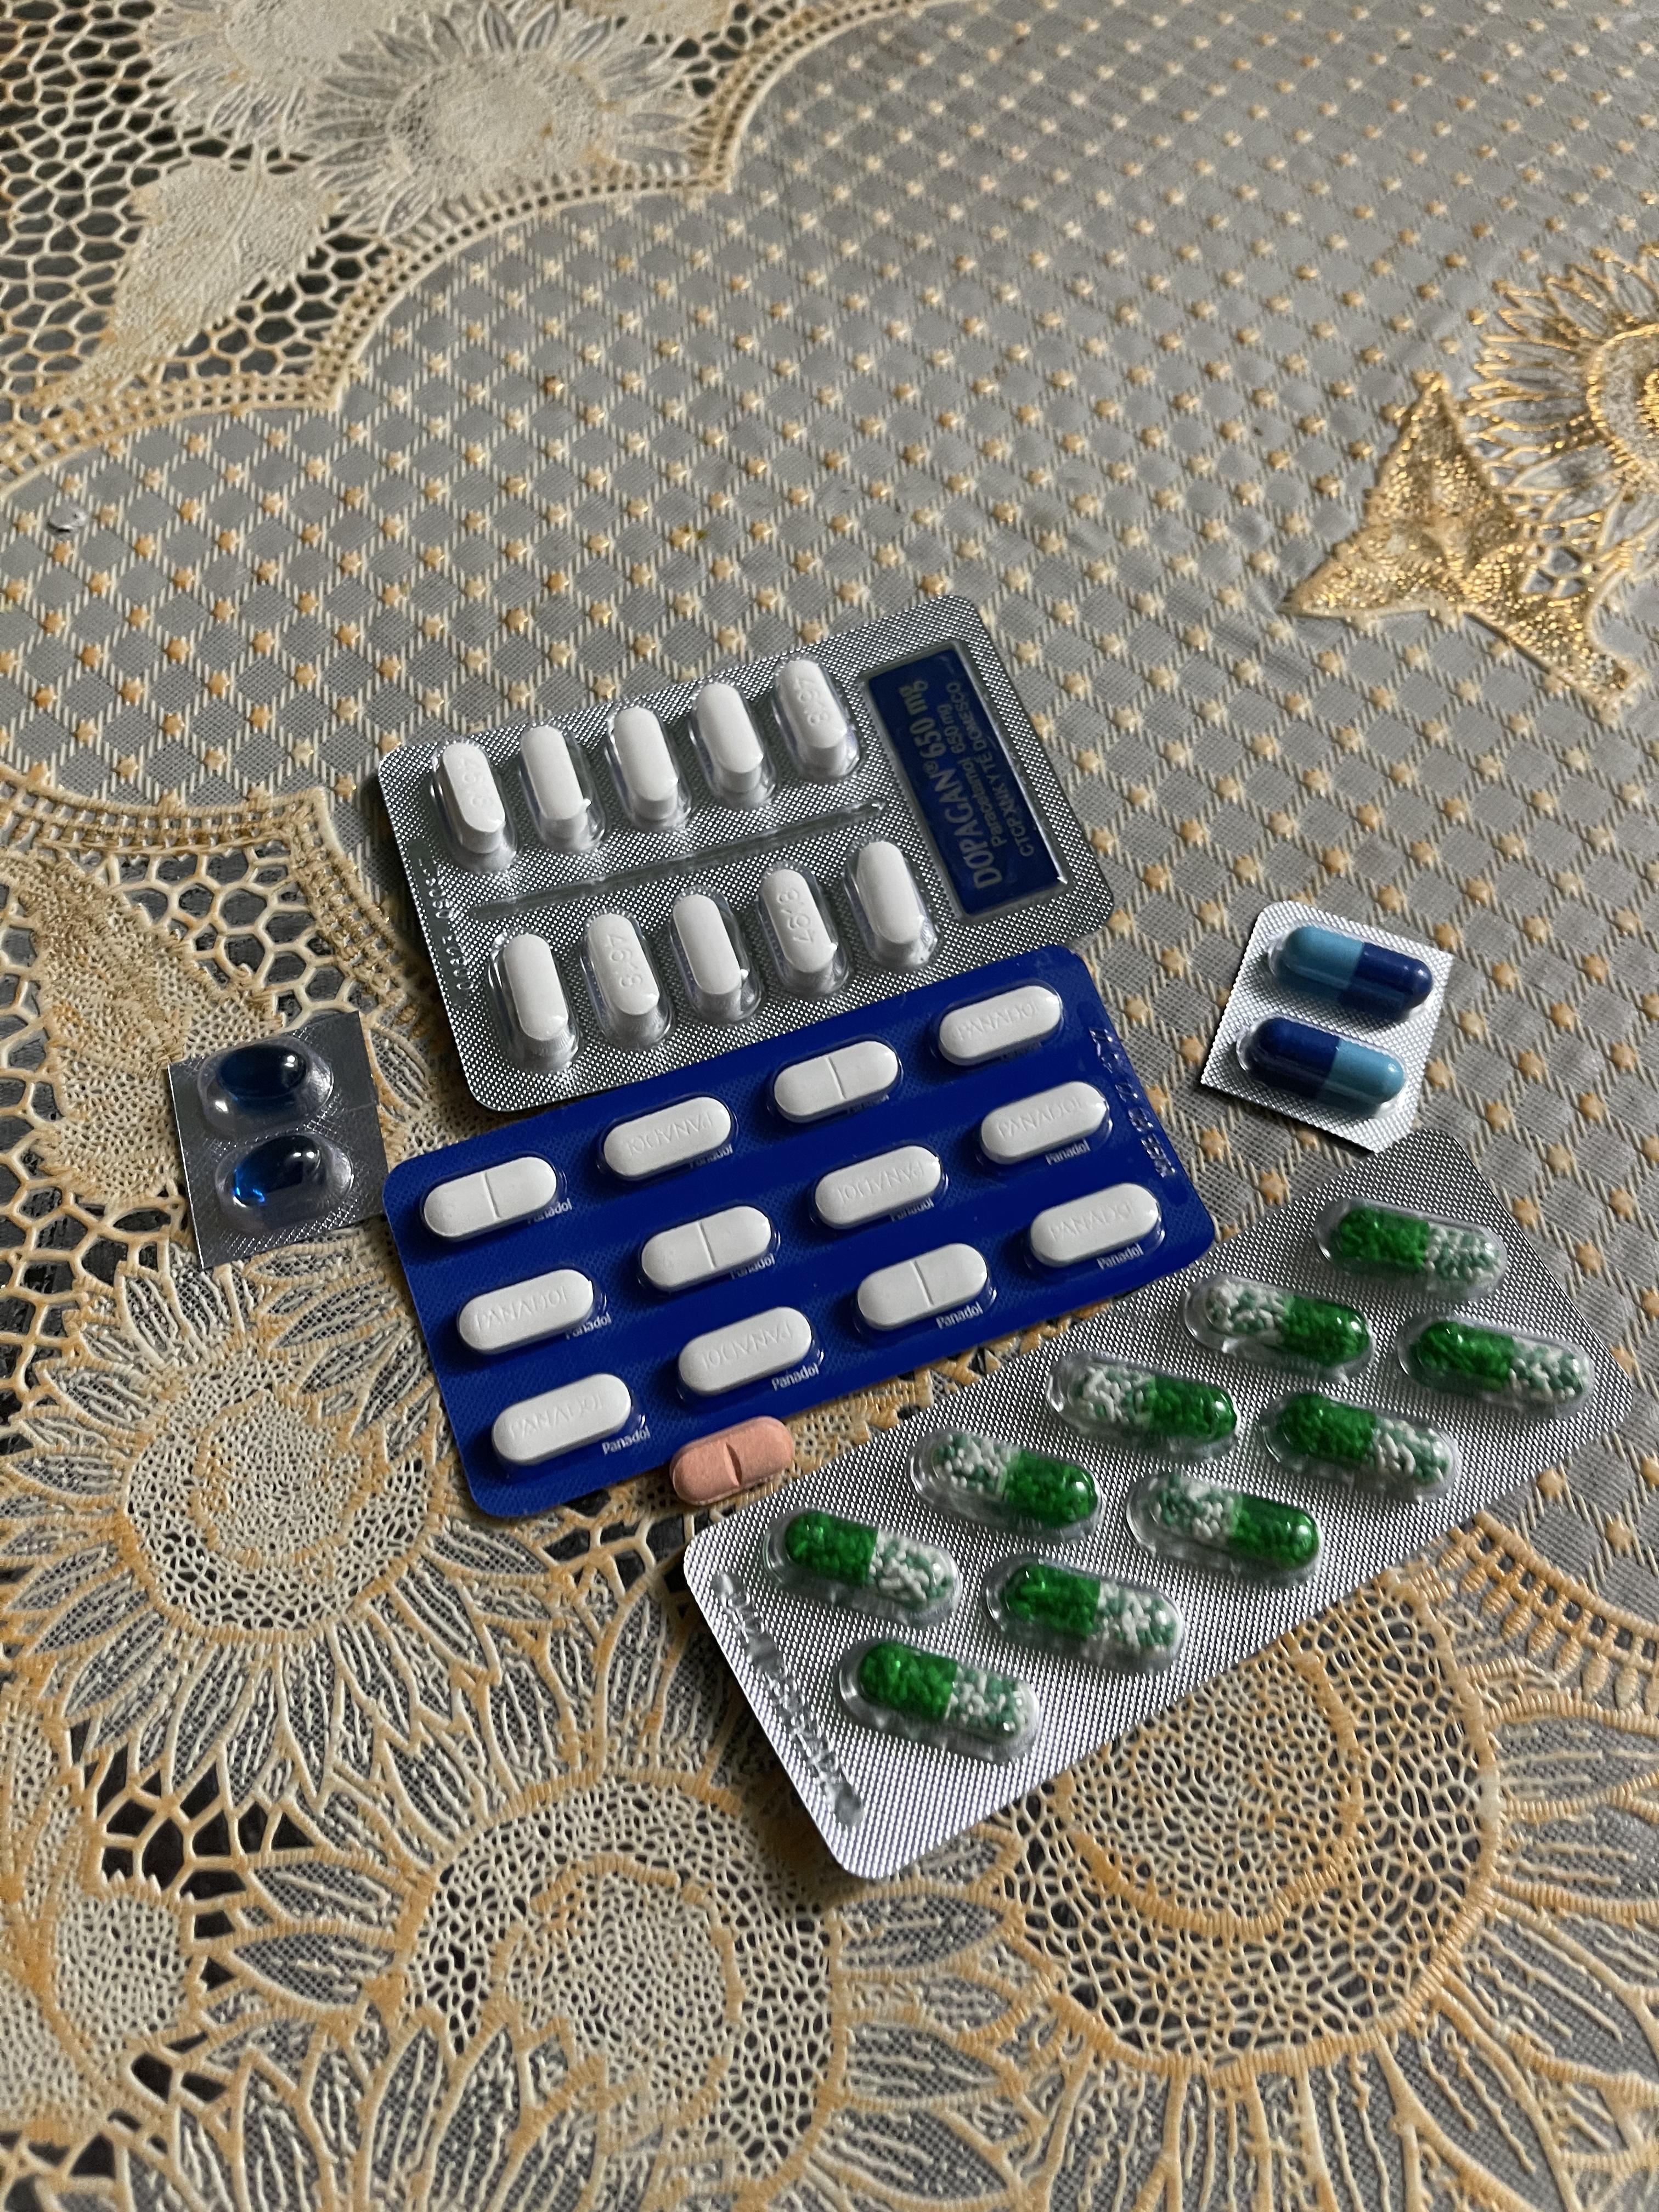Lincomyxin_500mg: (227, 1129, 343, 1219), (214, 1042, 319, 1111)
Loratadine_10mg: (671, 1416, 800, 1501)
Paracetamol_350mg: (491, 1374, 634, 1468), (458, 1266, 598, 1359), (680, 1306, 817, 1399), (1026, 1181, 1164, 1270), (857, 1244, 990, 1336), (812, 1143, 946, 1231), (974, 1080, 1110, 1167), (645, 1204, 777, 1292), (423, 1157, 558, 1242), (603, 1096, 732, 1183), (936, 982, 1066, 1068), (772, 1038, 896, 1123)
Paracetamol_500mg: (584, 911, 669, 1042), (755, 862, 842, 989), (850, 840, 932, 963), (692, 681, 770, 803), (669, 890, 749, 1008), (608, 704, 685, 827), (777, 653, 856, 772), (518, 725, 592, 843), (437, 740, 511, 855), (500, 932, 572, 1049)
Paracetamol_650mg: (840, 1639, 1037, 1757), (913, 1418, 1101, 1531), (992, 1562, 1187, 1670), (1047, 1352, 1234, 1456), (782, 1514, 962, 1615), (1270, 1395, 1452, 1494), (1194, 1280, 1377, 1371), (1140, 1477, 1319, 1569), (1417, 1324, 1593, 1404), (1331, 1207, 1502, 1285)
pill: (1272, 925, 1436, 1021), (1241, 1019, 1406, 1111)
